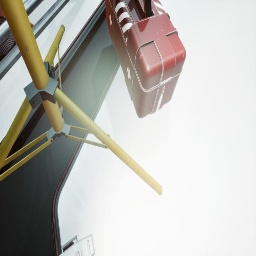FirstAidBox ,: (105, 0, 186, 118)
